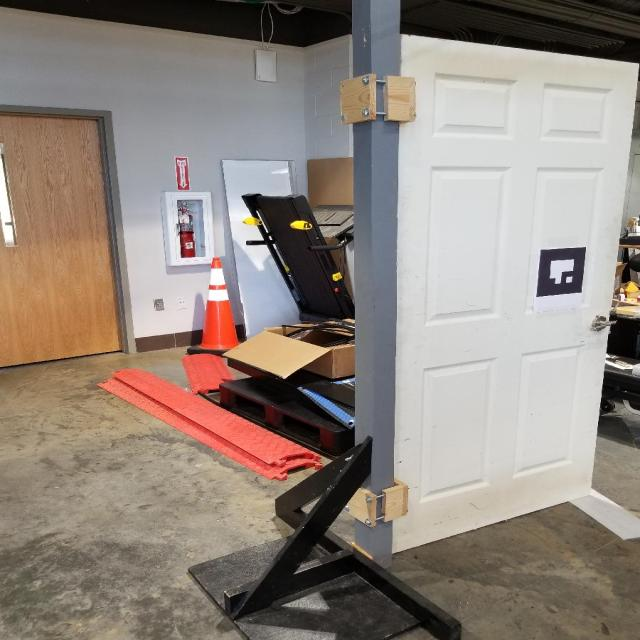doorhandle: (582, 310, 619, 336)
